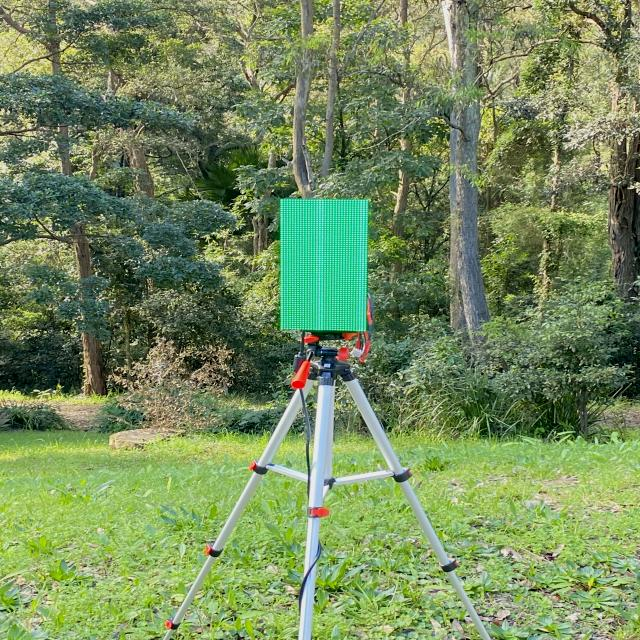matrix: (268, 194, 376, 342)
